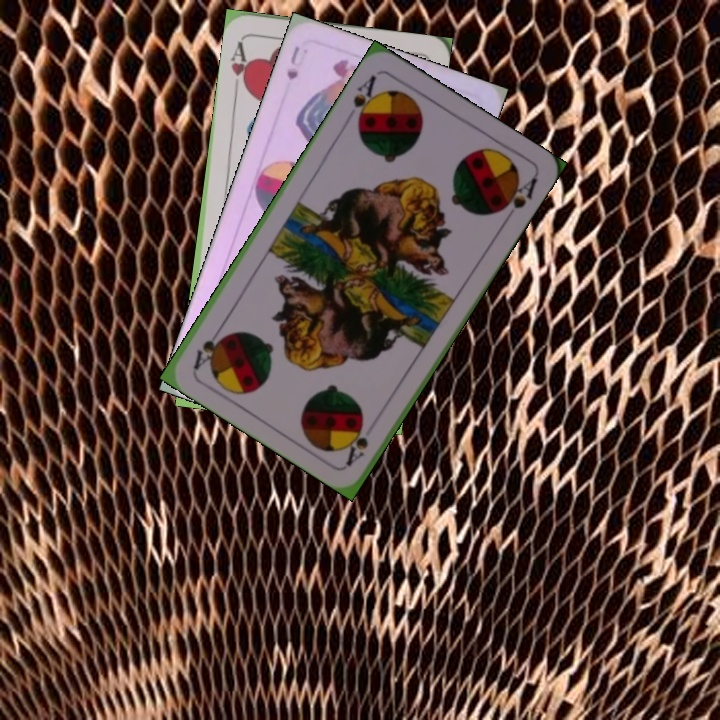HA: (227, 36, 254, 95)
SA: (349, 71, 382, 129), (342, 418, 371, 468)
SU: (282, 41, 303, 83)
